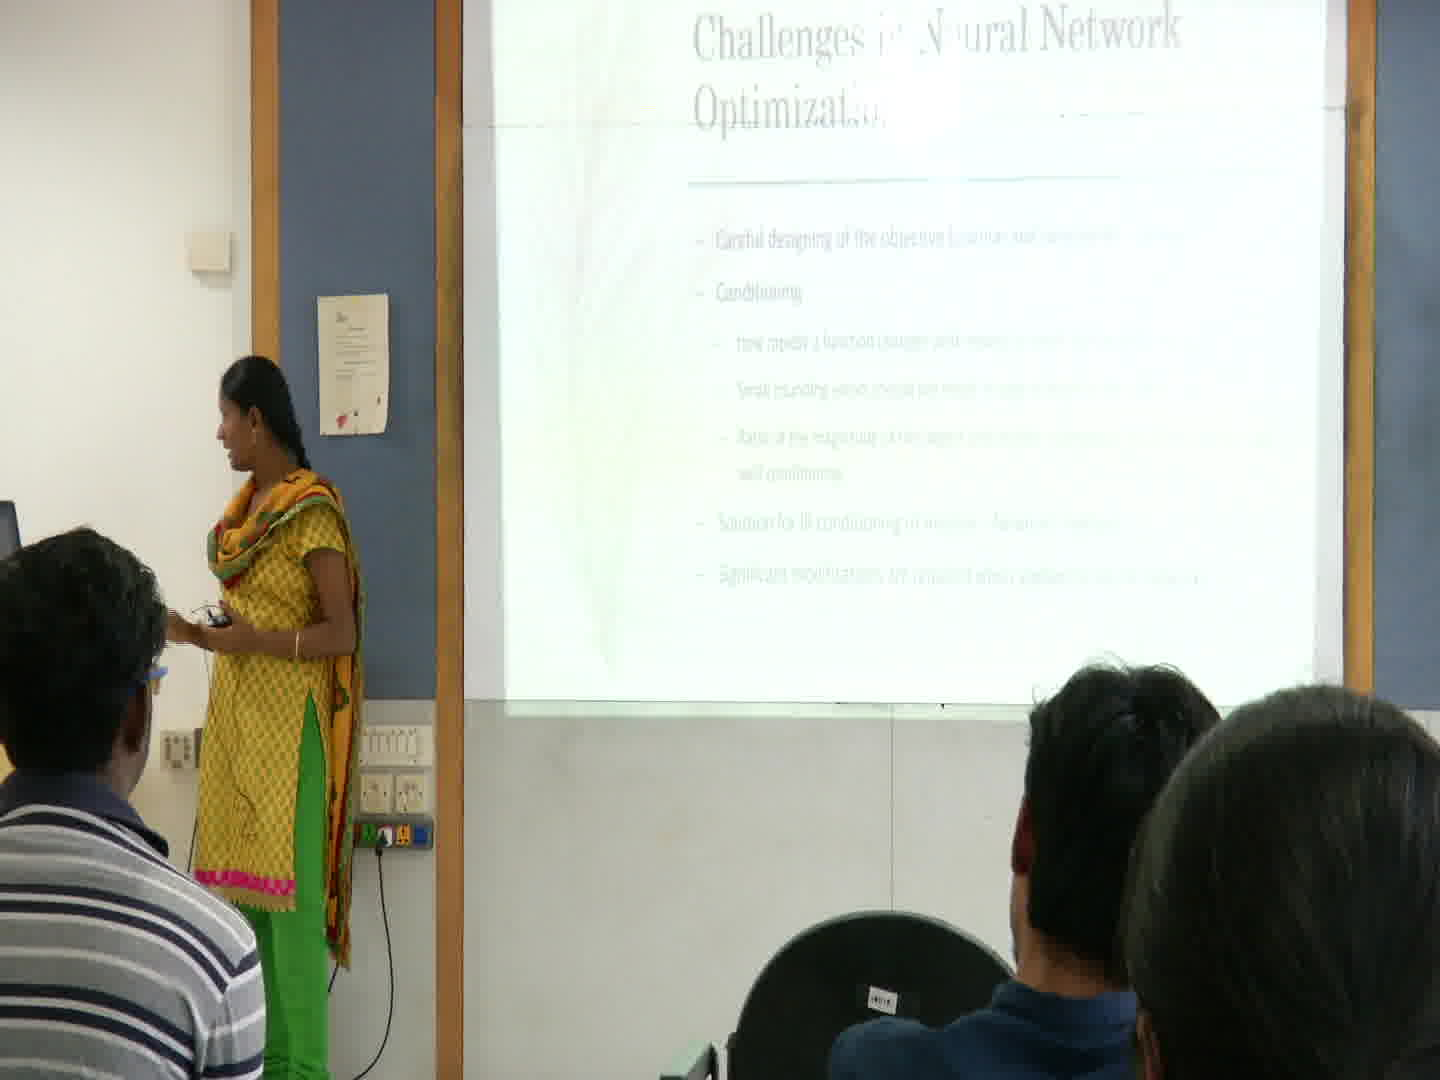slide: (490, 1, 1322, 719)
